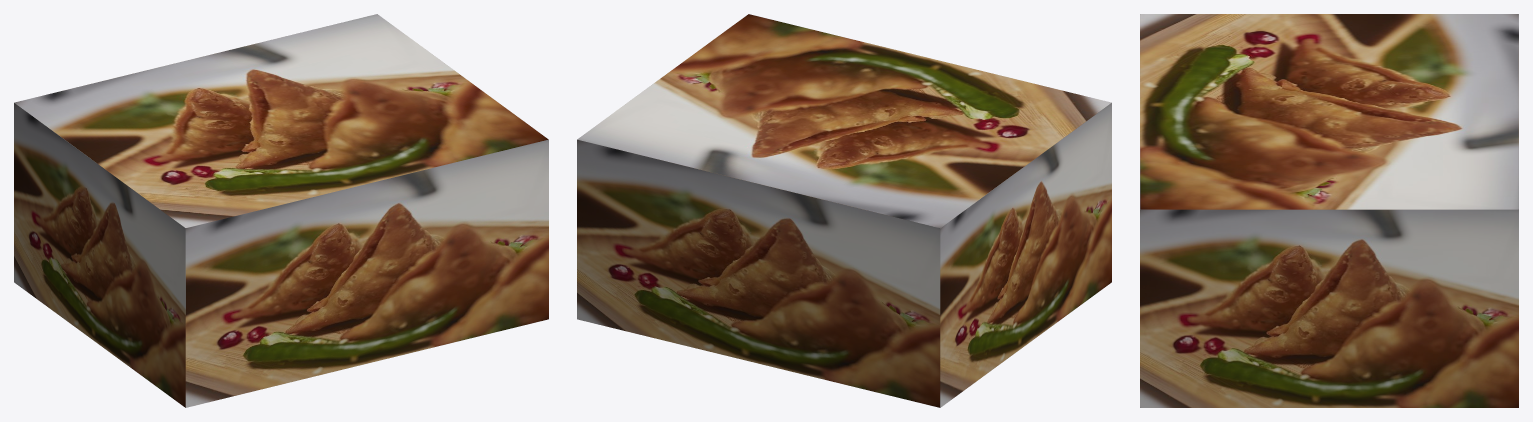
The model's file is p8-samosa.glb.
The picture shows the model from 3 angles, left to right: view 1: azimuth 30°, elevation 25°; view 2: azimuth 150°, elevation 25°; view 3: azimuth 270°, elevation 25°; orthographic projection. The views are drawn at different scales.
Bounding box in the file's own units: 1.65 × 0.78 × 1.35.
Materials: 1 (1 with a texture image).
